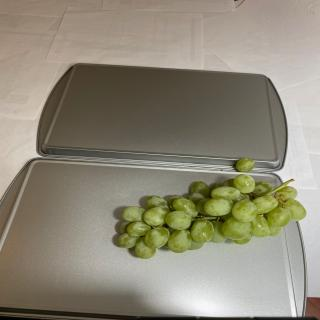Chilli: (118, 158, 306, 259)
